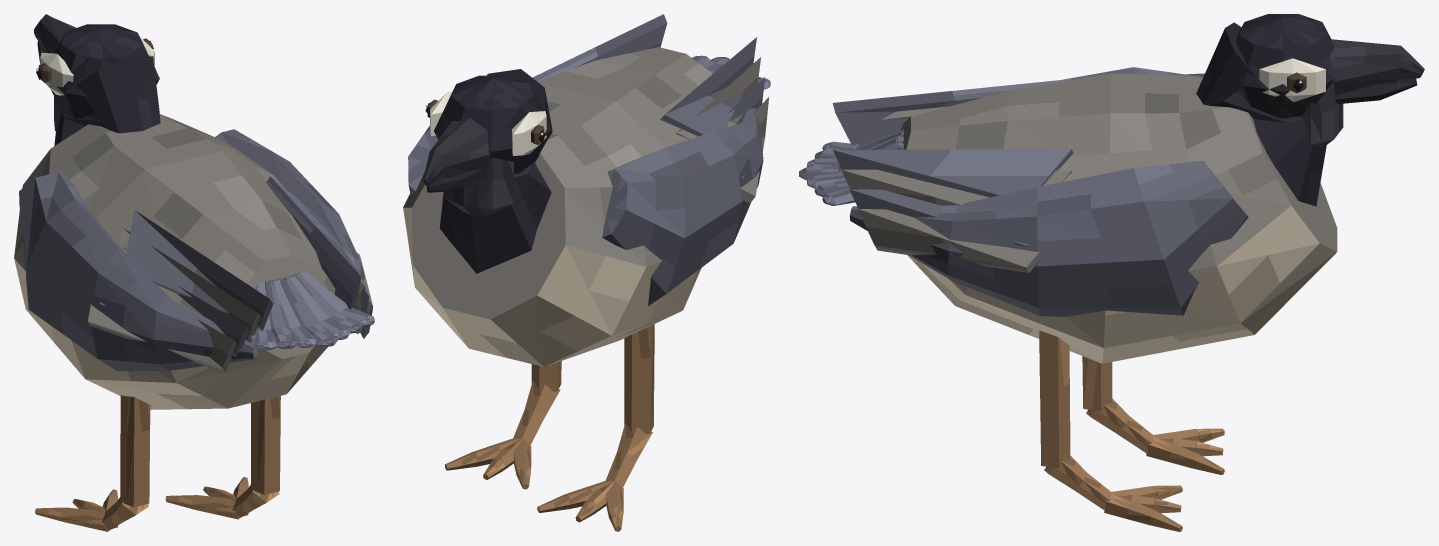
File: mon_chickadee.glb
The picture shows the model from 3 angles, left to right: view 1: azimuth 30°, elevation 25°; view 2: azimuth 150°, elevation 25°; view 3: azimuth 270°, elevation 25°; orthographic projection. The views are drawn at different scales.
Visible parts, largest first — view 1: closed_body; view 2: closed_body; view 3: closed_body.
Part boxes in pixels (x1,y1,x2,y2): closed_body: [14, 14, 374, 531]; closed_body: [403, 14, 770, 531]; closed_body: [799, 14, 1424, 531].
Bounding box in the file's own units: 0.0386 × 0.0601 × 0.0728.
1 material, 1 textured.
